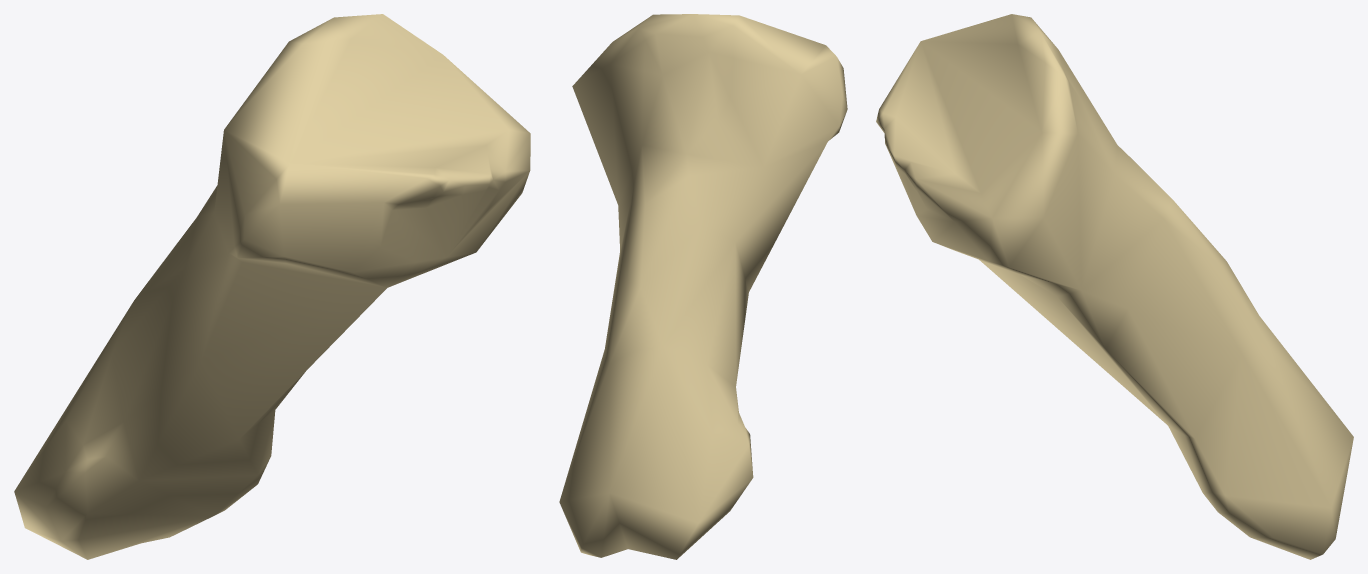
3 renders of one model, left to right at view 1: azimuth 30°, elevation 25°; view 2: azimuth 150°, elevation 25°; view 3: azimuth 270°, elevation 25°, orthographic. The views are drawn at different scales.
Visible parts, largest first — view 1: 右侧第二指远节指骨; view 2: 右侧第二指远节指骨; view 3: 右侧第二指远节指骨.
Boxes of the visible parts, x1,y1,x2,y2 form: 右侧第二指远节指骨: (14,14,530,559); 右侧第二指远节指骨: (559,14,847,559); 右侧第二指远节指骨: (876,14,1353,559).
Bounding box in the file's own units: 0.0154 × 0.026 × 0.0211.
